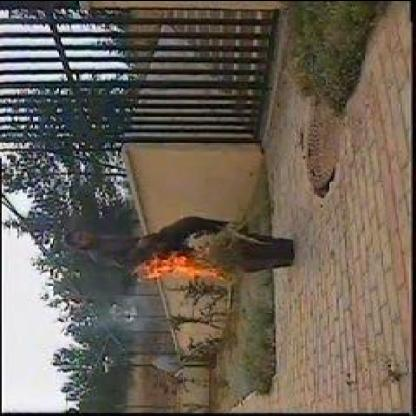-: (126, 280, 157, 308)
foggia-v2-map80-epoch100 - v1 4323: (129, 254, 219, 278)
